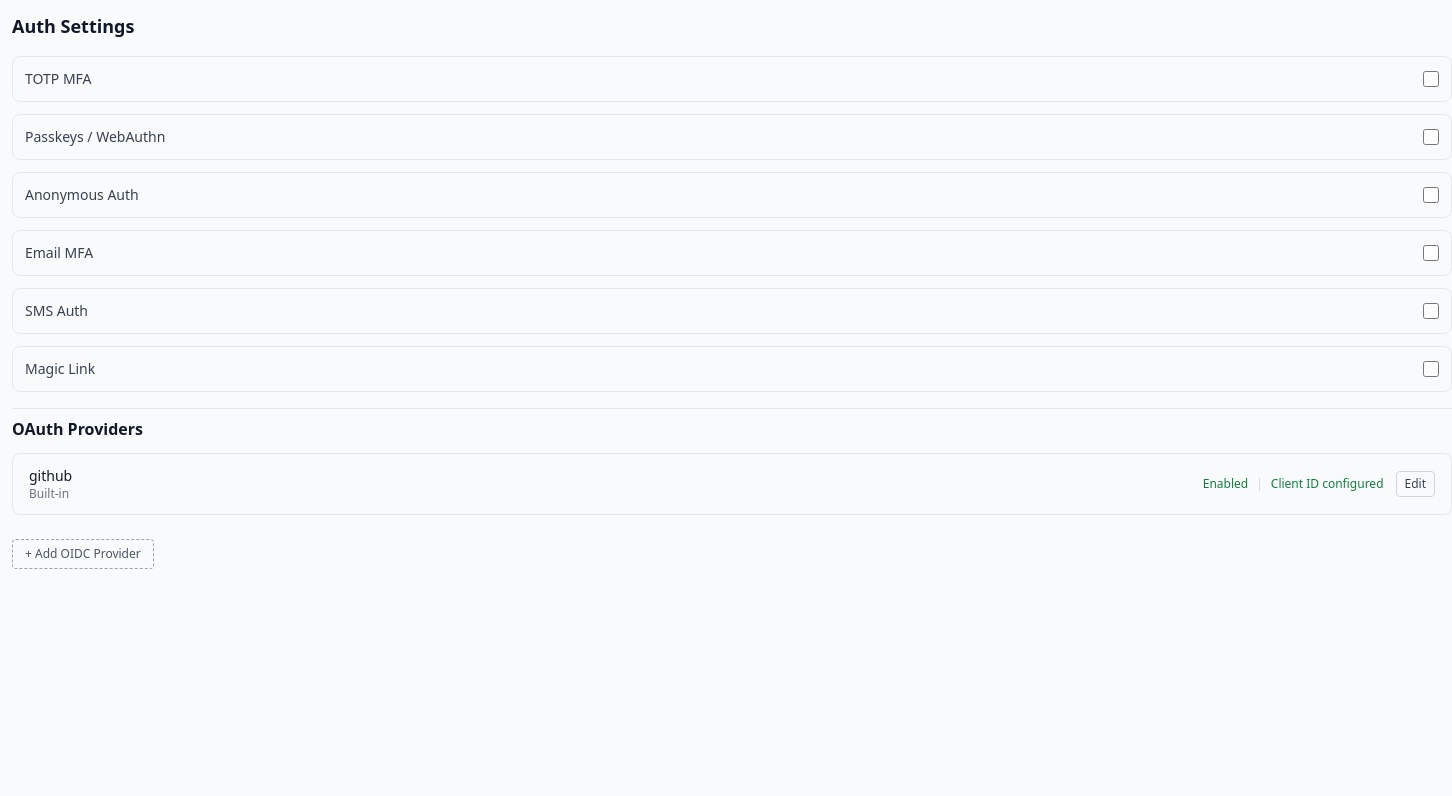
Test case: AuthSettings › shows error message when test connection fails
The width and height of the screenshot is (1452, 796).
Step 1. Click the button "Edit" → (1415, 484), box [1396,471,1435,497]
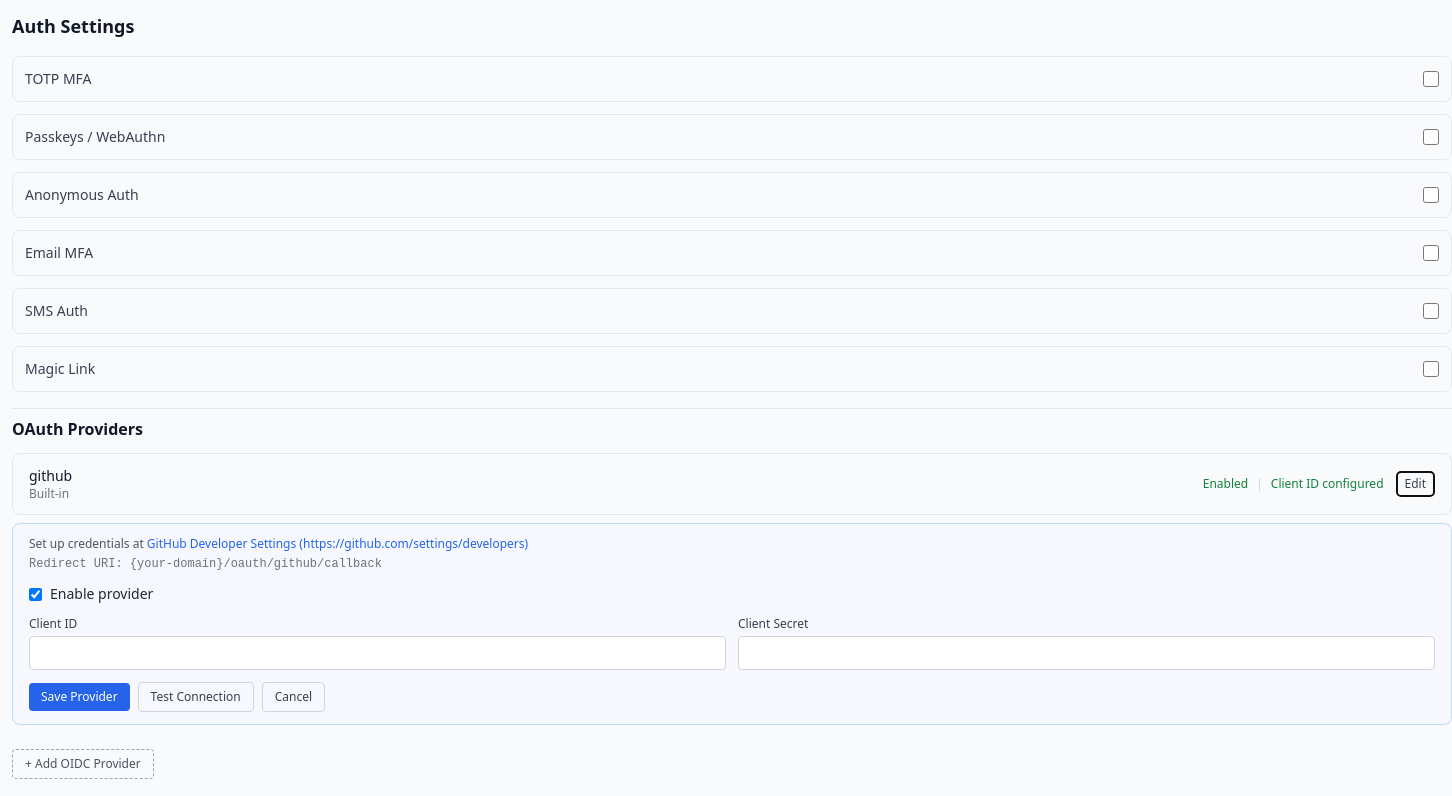
Step 2. Click the button with test id "provider-form-test" → (196, 697), box [138,682,254,712]
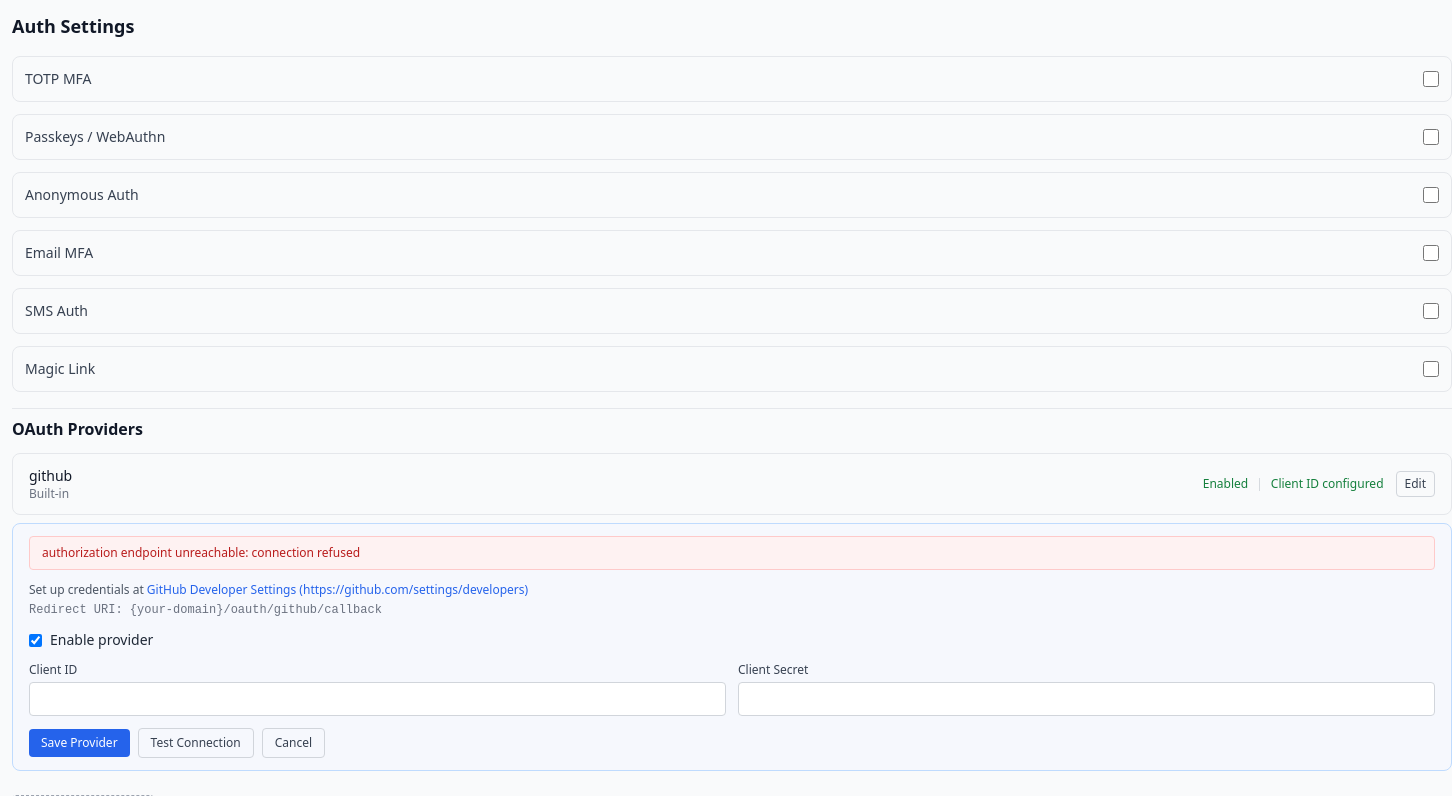
Expected: the text "authorization endpoint unreachable: connection refused" is shown, [29,536,1435,570]
